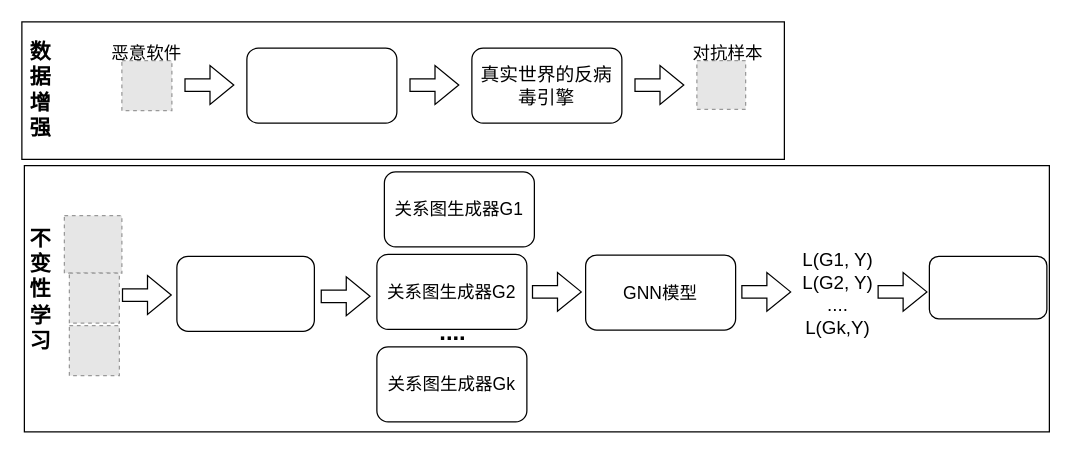
Some shapes in this 1071 by 454 pixel diagram are drawn without their labels. Grey dashed boxes stand in for pictures. The shapes that lost their labels are listed below. From the top down, each one's centre as x and y in pixels, then its label:
At point (321, 85): "对抗样本生成器".
At point (245, 293): "异质关系图构建".
At point (987, 287): "EERM Loss".
